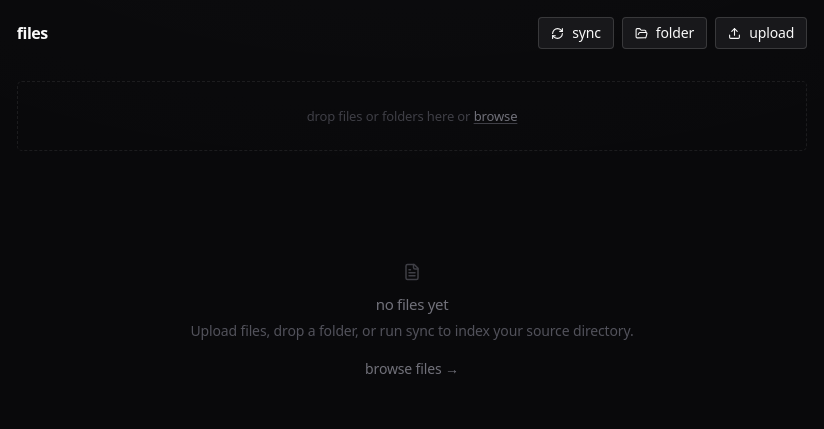
Test: FilesSection › Sync Functionality › should handle sync errors
Step 1. Click the button "sync" → [576, 33], box [538,17,614,49]
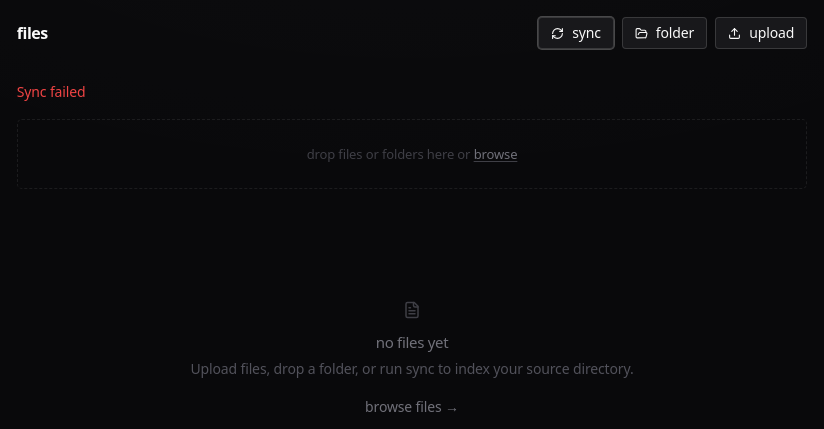
Expected: the text "Sync failed" is shown, [17,82,86,101]
